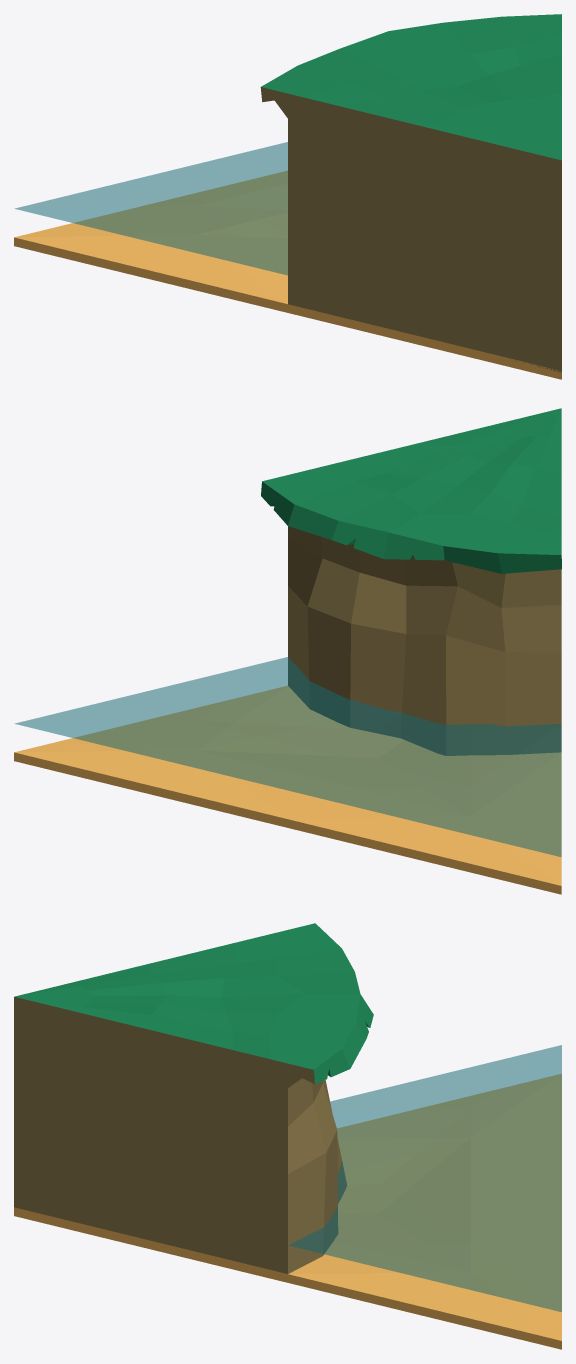
File: tile8.glb
3 renders of one model, top to bottom at view 1: azimuth 30°, elevation 25°; view 2: azimuth 150°, elevation 25°; view 3: azimuth 270°, elevation 25°, orthographic.
Parts seen in each view (by area): view 1: hill8.003, sand8.001, water8.001; view 2: hill8.003, sand8.001, water8.001; view 3: hill8.003, sand8.001, water8.001.
Boxes of the visible parts, x1,y1,x2,y2 form: hill8.003: (260, 14, 561, 372); sand8.001: (14, 170, 561, 379); water8.001: (15, 142, 287, 275); hill8.003: (261, 408, 561, 755); sand8.001: (14, 685, 561, 894); water8.001: (15, 657, 561, 856); hill8.003: (14, 923, 373, 1273); sand8.001: (14, 1073, 561, 1349); water8.001: (288, 1045, 561, 1311).
Bounding box in the file's own units: 1 × 0.3873 × 0.866.
